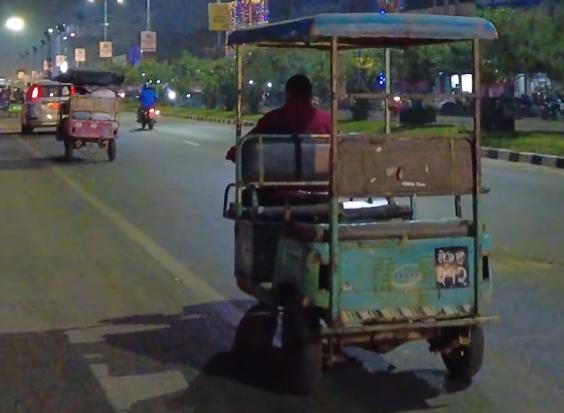e-rickshaw: (228, 5, 496, 395), (56, 66, 121, 163)
